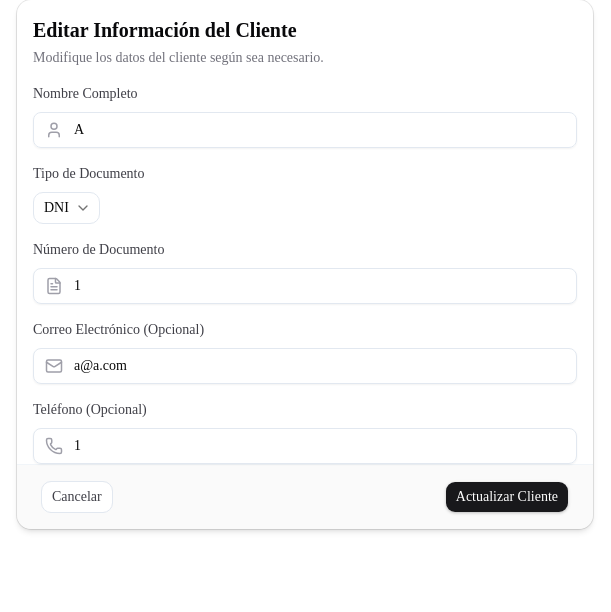
Test case: ClientForm › muestra error si ocurre una excepción
The width and height of the screenshot is (611, 612).
Click the button "Actualizar Cliente" at (507, 497), box top-left (445, 481), bottom-right (569, 513)
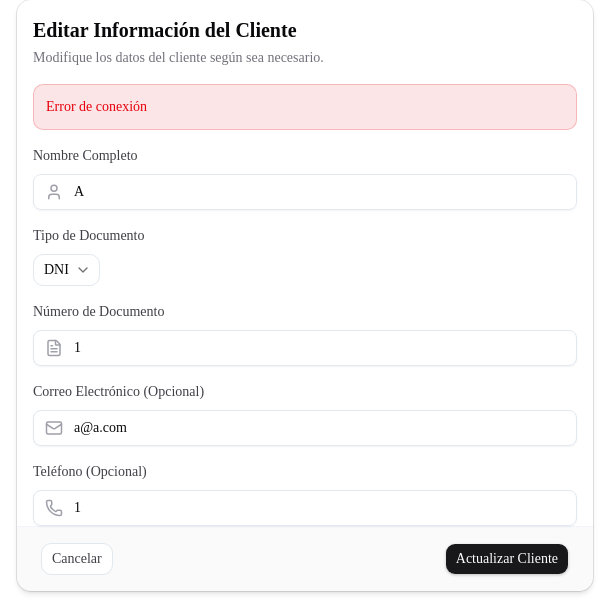
Now the text "Error de conexión" is shown, box top-left (33, 84), bottom-right (577, 130)
